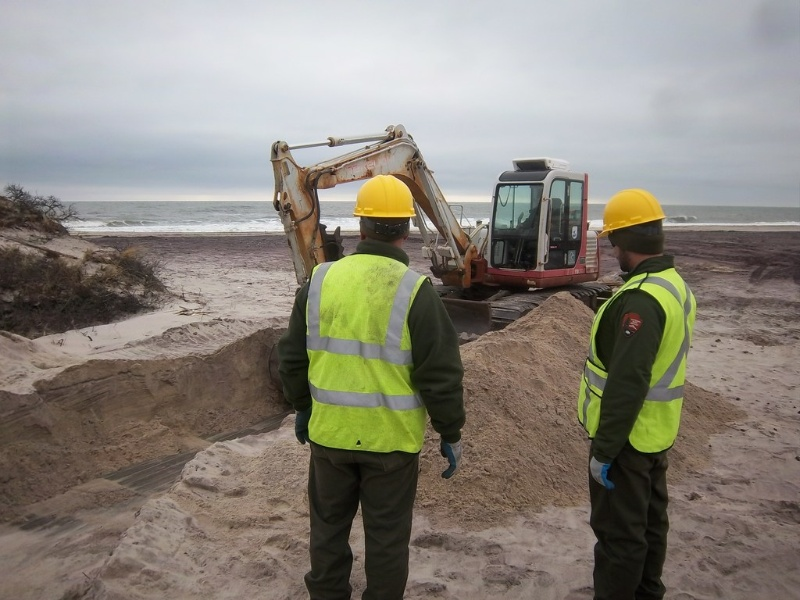baret: (596, 188, 669, 236), (353, 174, 419, 219)
